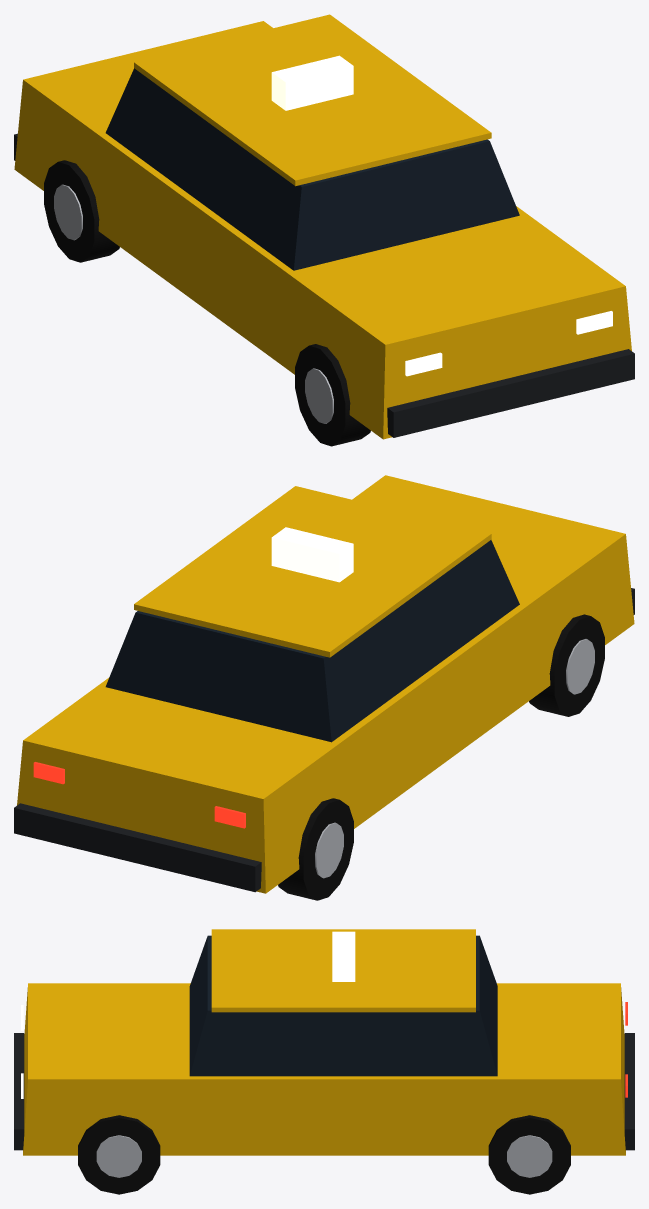
Rendered from taxi.glb.
3 renders of one model, top to bottom at view 1: azimuth 30°, elevation 25°; view 2: azimuth 150°, elevation 25°; view 3: azimuth 270°, elevation 25°, orthographic. The views are drawn at different scales.
Bounding box in the file's own units: 1.93 × 1.7 × 4.84.
